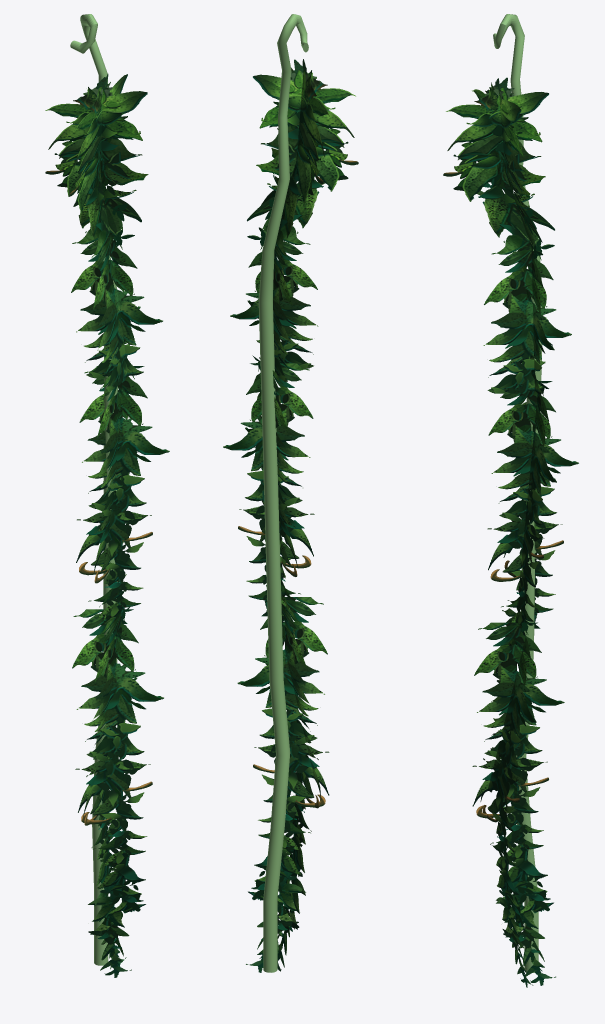
The model's file is vines2-2-1.fbx.
The picture shows the model from 3 angles, left to right: view 1: azimuth 30°, elevation 25°; view 2: azimuth 150°, elevation 25°; view 3: azimuth 330°, elevation 25°; orthographic projection.
Parts seen in each view (by area): view 1: polySurface26; view 2: polySurface26; view 3: polySurface26.
Boxes of the visible parts, <box> form: polySurface26: <box>45,14,169,977</box>; polySurface26: <box>223,14,358,972</box>; polySurface26: <box>443,14,578,987</box>.
Bounding box in the file's own units: 3.16 × 20.66 × 2.07.
